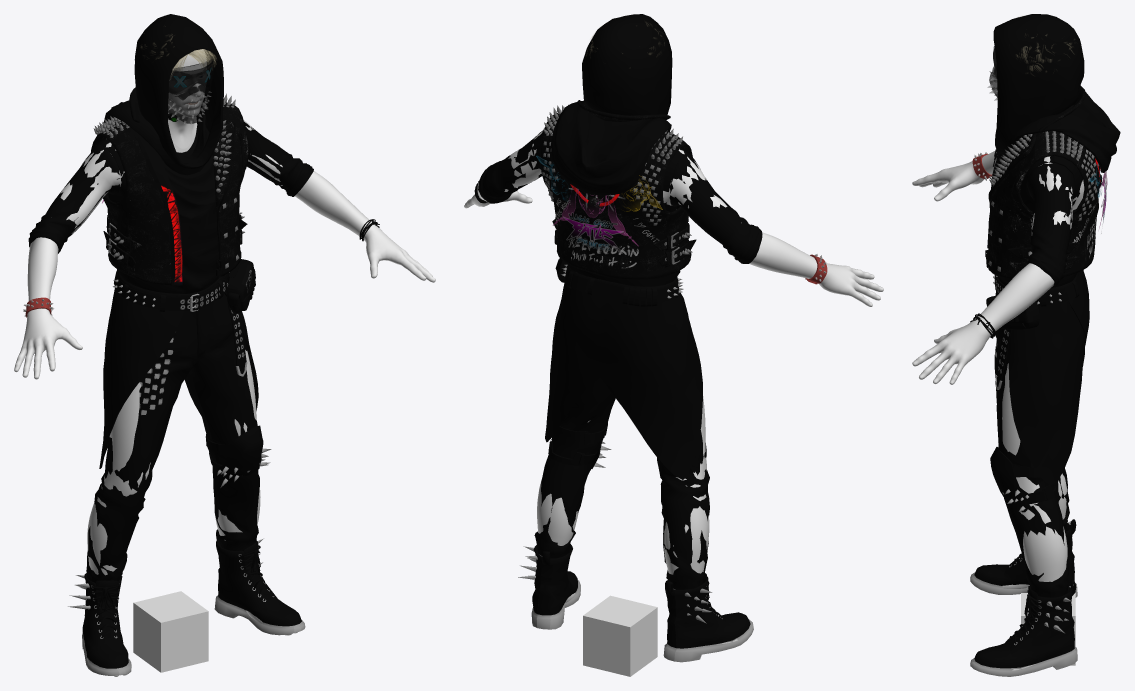
Rendered from Wrench.glb.
3 renders of one model, left to right at view 1: azimuth 30°, elevation 25°; view 2: azimuth 150°, elevation 25°; view 3: azimuth 270°, elevation 25°, orthographic.
Parts seen in each view (by area): view 1: pants, hoodie_hood_on, body_full, vest, boots, Cube, hoodie_hood_off, head, mask, mask_glass; view 2: pants, hoodie_hood_on, vest, body_full, boots, hoodie_hood_off, Cube, gbp_back; view 3: pants, hoodie_hood_on, body_full, vest, boots, hoodie_hood_off, bracelet, gbp_back, Cube.
Boxes of the visible parts, x1,y1,x2,y2 form: pants: [86, 259, 271, 582]; hoodie_hood_on: [28, 14, 313, 293]; body_full: [14, 120, 435, 676]; vest: [91, 93, 248, 285]; boots: [68, 529, 305, 675]; Cube: [133, 591, 208, 672]; hoodie_hood_off: [62, 100, 313, 267]; head: [168, 49, 206, 152]; mask: [168, 59, 213, 124]; mask_glass: [169, 61, 214, 94]; pants: [534, 258, 709, 589]; hoodie_hood_on: [478, 14, 762, 286]; vest: [540, 104, 696, 279]; body_full: [464, 131, 883, 644]; boots: [518, 544, 753, 662]; hoodie_hood_off: [539, 100, 735, 231]; Cube: [583, 595, 657, 676]; gbp_back: [536, 155, 662, 253]; pants: [986, 270, 1089, 597]; hoodie_hood_on: [985, 14, 1097, 287]; body_full: [912, 151, 1084, 670]; vest: [987, 130, 1099, 279]; boots: [970, 519, 1077, 676]; hoodie_hood_off: [985, 92, 1120, 266]; bracelet: [970, 152, 995, 338]; gbp_back: [1089, 163, 1107, 233]; Cube: [1021, 593, 1075, 665].
Size of the model in its own units: 17.2 by 25.64 by 7.6.
Materials: 20 (17 with a texture image).
